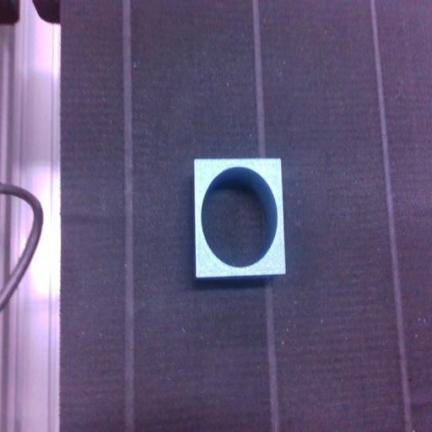square: (195, 159, 286, 278)
